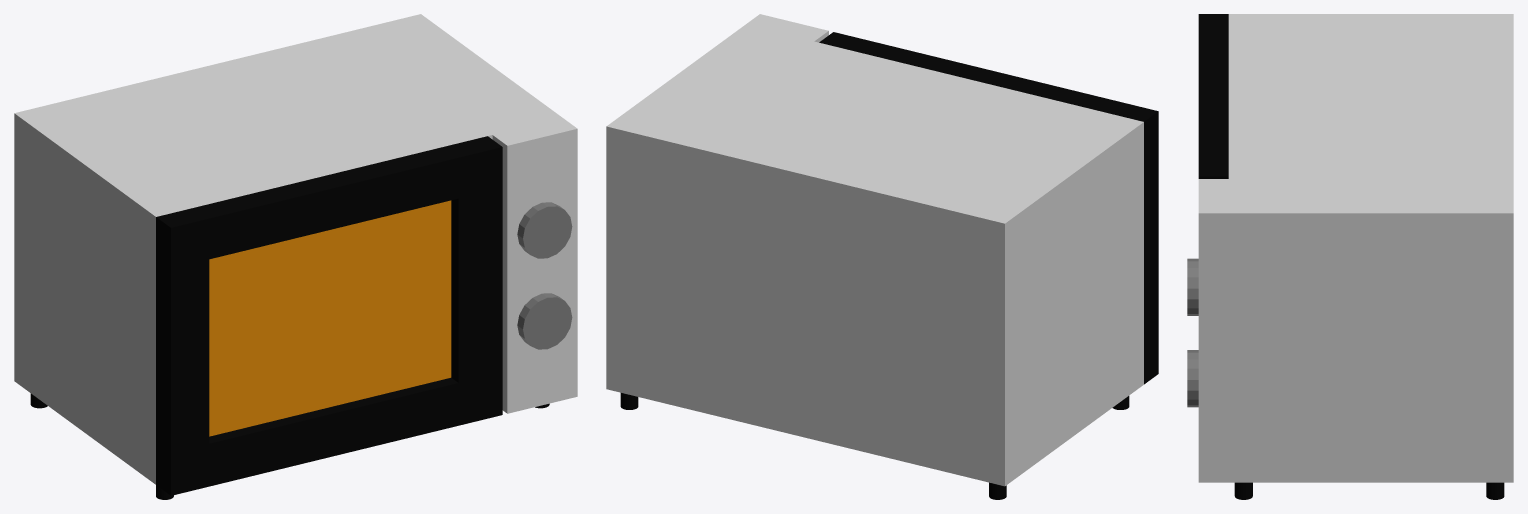
File: oven.fbx
3 renders of one model, left to right at view 1: azimuth 30°, elevation 25°; view 2: azimuth 150°, elevation 25°; view 3: azimuth 270°, elevation 25°, orthographic. The views are drawn at different scales.
Parts seen in each view (by area): view 1: Cube; view 2: Cube; view 3: Cube.
Part boxes in pixels (x1,y1,x2,y2): Cube: (14, 14, 577, 499); Cube: (606, 14, 1158, 499); Cube: (1187, 14, 1513, 499).
Bounding box in the file's own units: 280 × 190 × 194.
